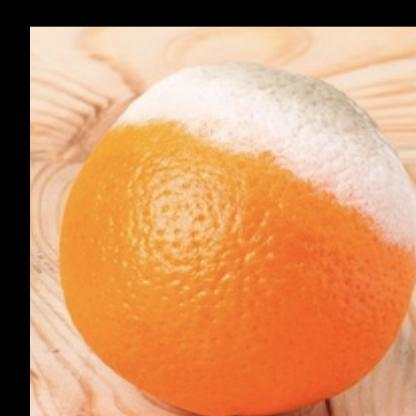rotten: (61, 63, 416, 416)
